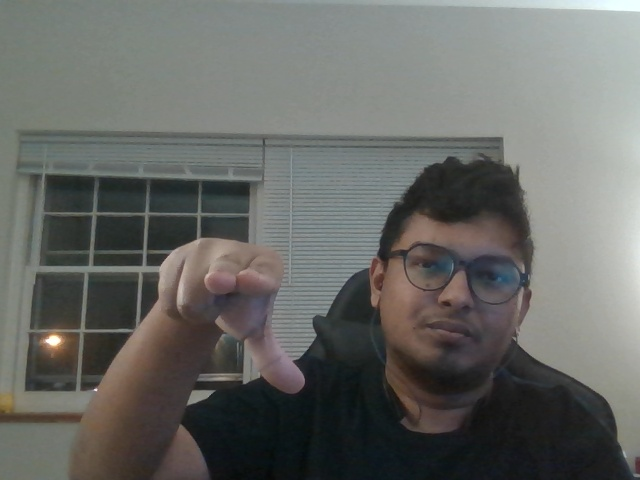no: (142, 221, 319, 409)
